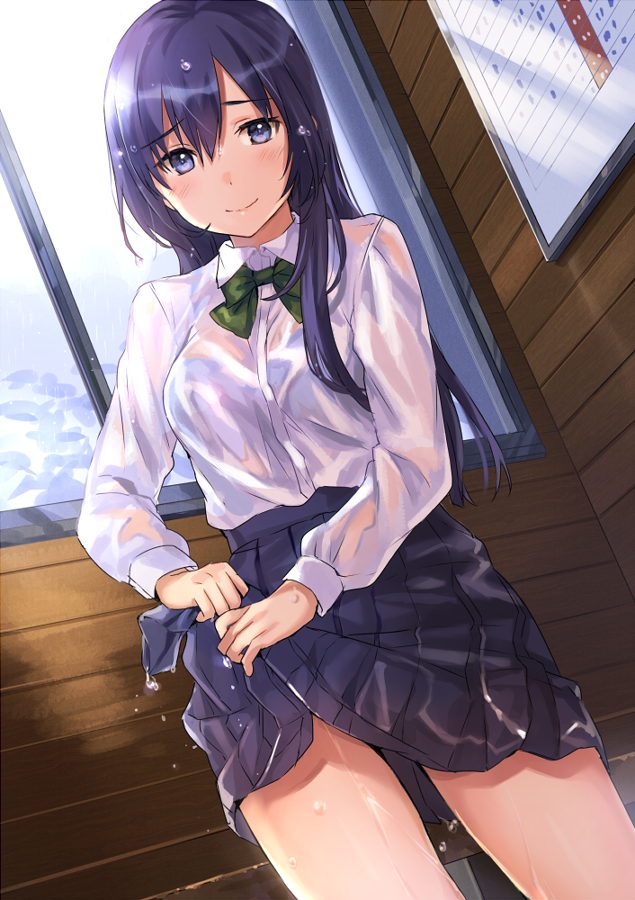纸片人正脸: (94, 2, 340, 245)
